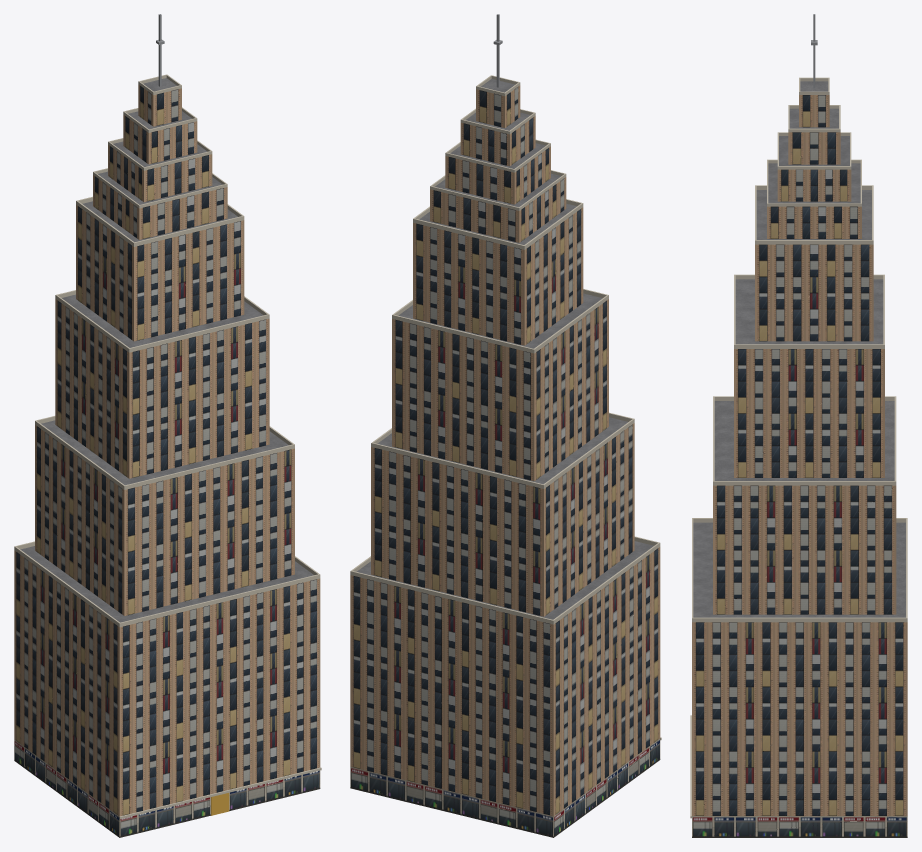
The model's file is 038_deco_stepped.glb.
3 renders of one model, left to right at view 1: azimuth 30°, elevation 25°; view 2: azimuth 150°, elevation 25°; view 3: azimuth 270°, elevation 25°, orthographic. The views are drawn at different scales.
Visible parts, largest first — view 1: 038_deco_stepped; view 2: 038_deco_stepped; view 3: 038_deco_stepped.
Boxes of the visible parts, box(x1,y1,x2,y2) form: 038_deco_stepped: box(14, 14, 321, 837); 038_deco_stepped: box(350, 14, 661, 837); 038_deco_stepped: box(690, 14, 907, 837).
Bounding box in the file's own units: 44.2 × 158 × 40.3.
6 materials, 3 textured.
